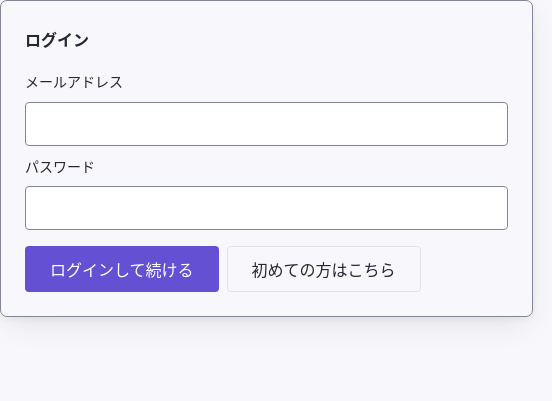
Test: AuthPanel › shows distinct Japanese copy for emailNotConfirmed
Type "reader@example.com" into the field labelled "メールアドレス" at (266, 124), box [25,102,508,146]
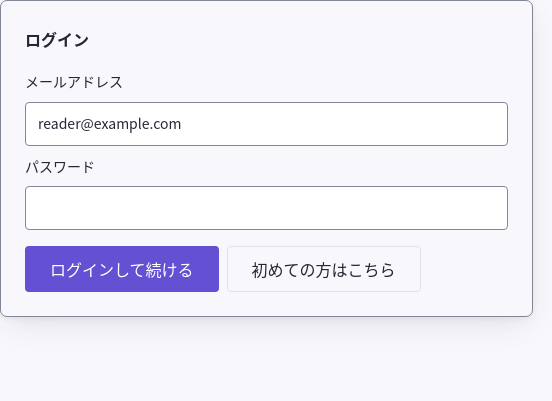
Type "password" into the password field labelled "パスワード" at (266, 208), box [25,186,508,230]
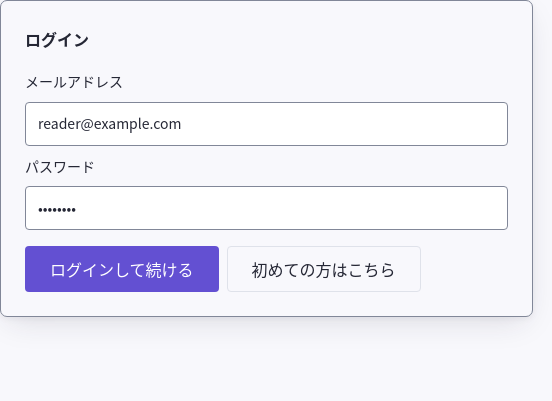
Click the button "ログインして続ける" at (122, 269), box [25,246,218,292]
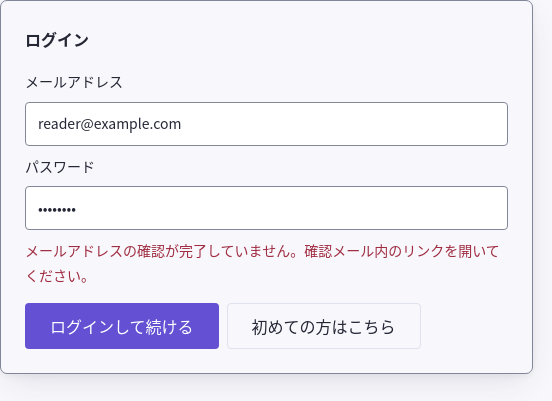
Expected: the message reads "メールアドレスの確認が完了していません。確認メール内のリンクを開いてください。", [25,240,500,284]
